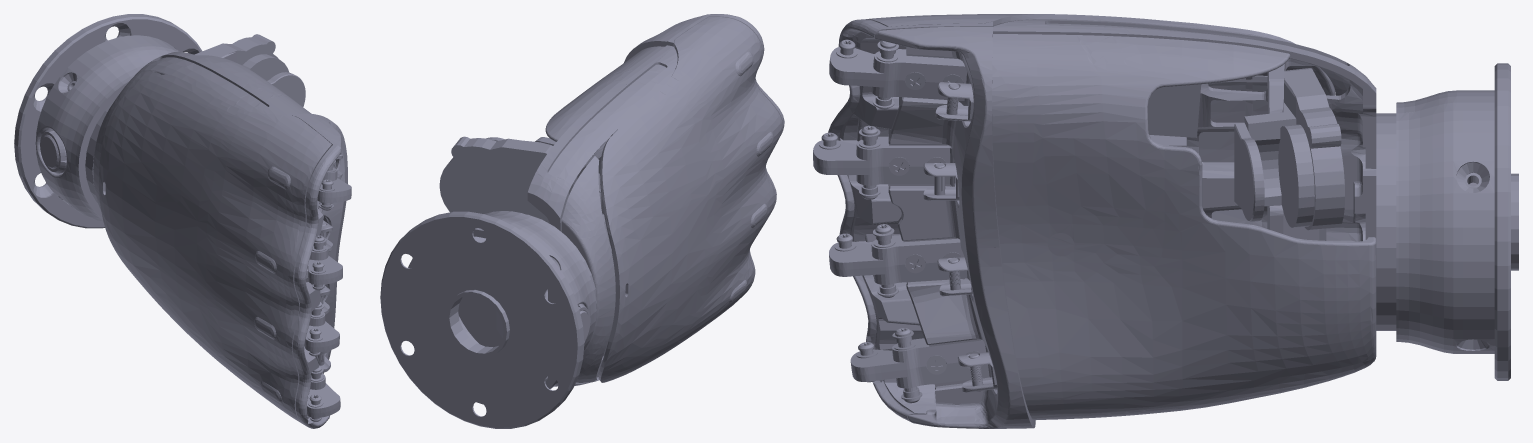
File: hand2_link_base_visuals.obj
The picture shows the model from 3 angles, left to right: view 1: azimuth 30°, elevation 25°; view 2: azimuth 150°, elevation 25°; view 3: azimuth 270°, elevation 25°; orthographic projection. The views are drawn at different scales.
Size of the model in its own units: 0.0602 by 0.0819 by 0.1311.
